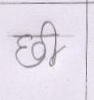i_matra: (43, 20, 62, 66)
